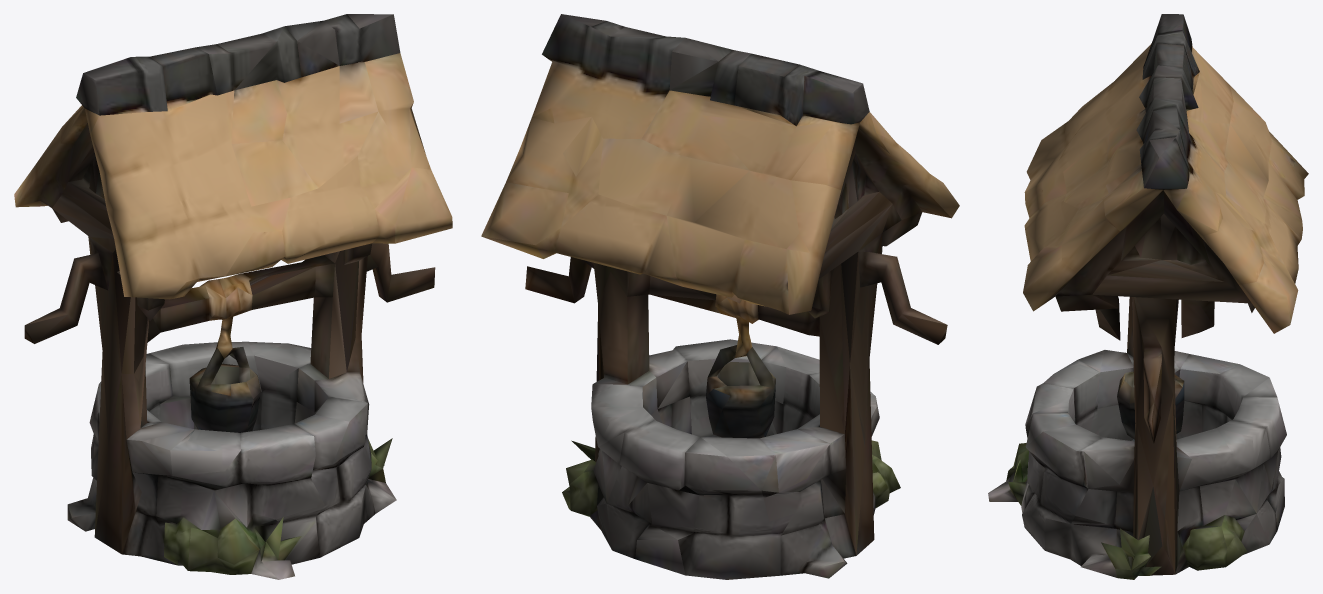
The model's file is well.glb.
The picture shows the model from 3 angles, left to right: view 1: azimuth 30°, elevation 25°; view 2: azimuth 150°, elevation 25°; view 3: azimuth 270°, elevation 25°; orthographic projection. The views are drawn at different scales.
Visible parts, largest first — view 1: tripo_node_a394bad1-065b-4981-b011-8181fc1a89ba; view 2: tripo_node_a394bad1-065b-4981-b011-8181fc1a89ba; view 3: tripo_node_a394bad1-065b-4981-b011-8181fc1a89ba.
Part boxes in pixels (box(x1,y1,x2,y2)): tripo_node_a394bad1-065b-4981-b011-8181fc1a89ba: box(14, 14, 452, 579); tripo_node_a394bad1-065b-4981-b011-8181fc1a89ba: box(481, 14, 959, 579); tripo_node_a394bad1-065b-4981-b011-8181fc1a89ba: box(988, 14, 1308, 579).
Size of the model in its own units: 0.898 by 0.9735 by 0.6336.
Materials: 1 (1 with a texture image).
